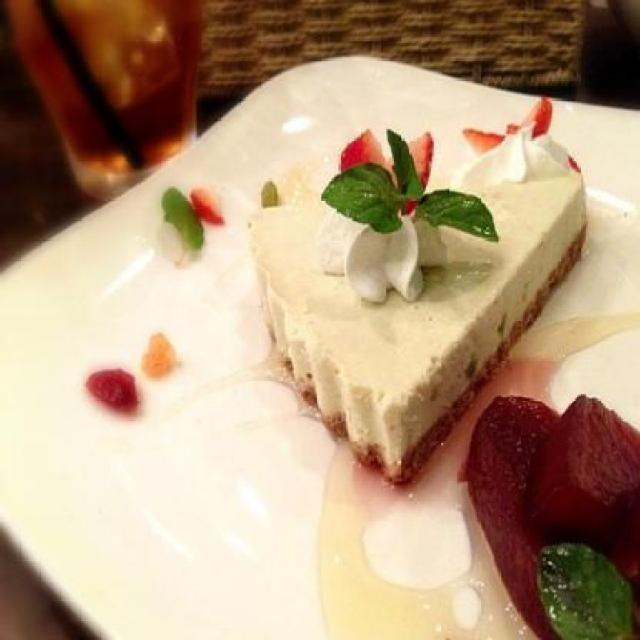Rare cheese cake: (197, 79, 616, 470)
